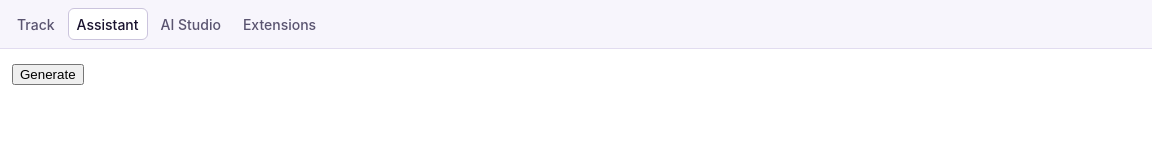
Test case: <StudioInspectorPanels /> › mounts only the active contextual panel
This screenshot has width=1152, height=160.
Expected: the button "Generate" is shown, [12,64,84,85]
Expected: the button "Enable" is not shown
Click the tab "Extensions" at {"x": 280, "y": 24}, box [234,8,325,40]
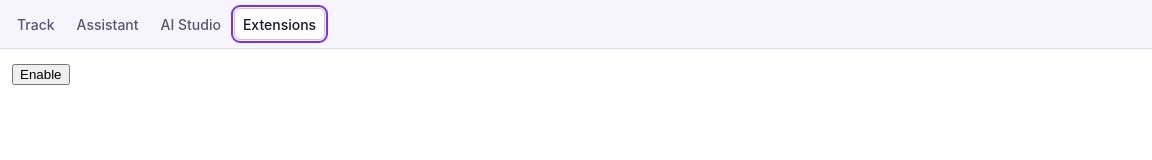
Expected: the button "Generate" is gone
Expected: the button "Enable" is shown, [12,64,70,85]
